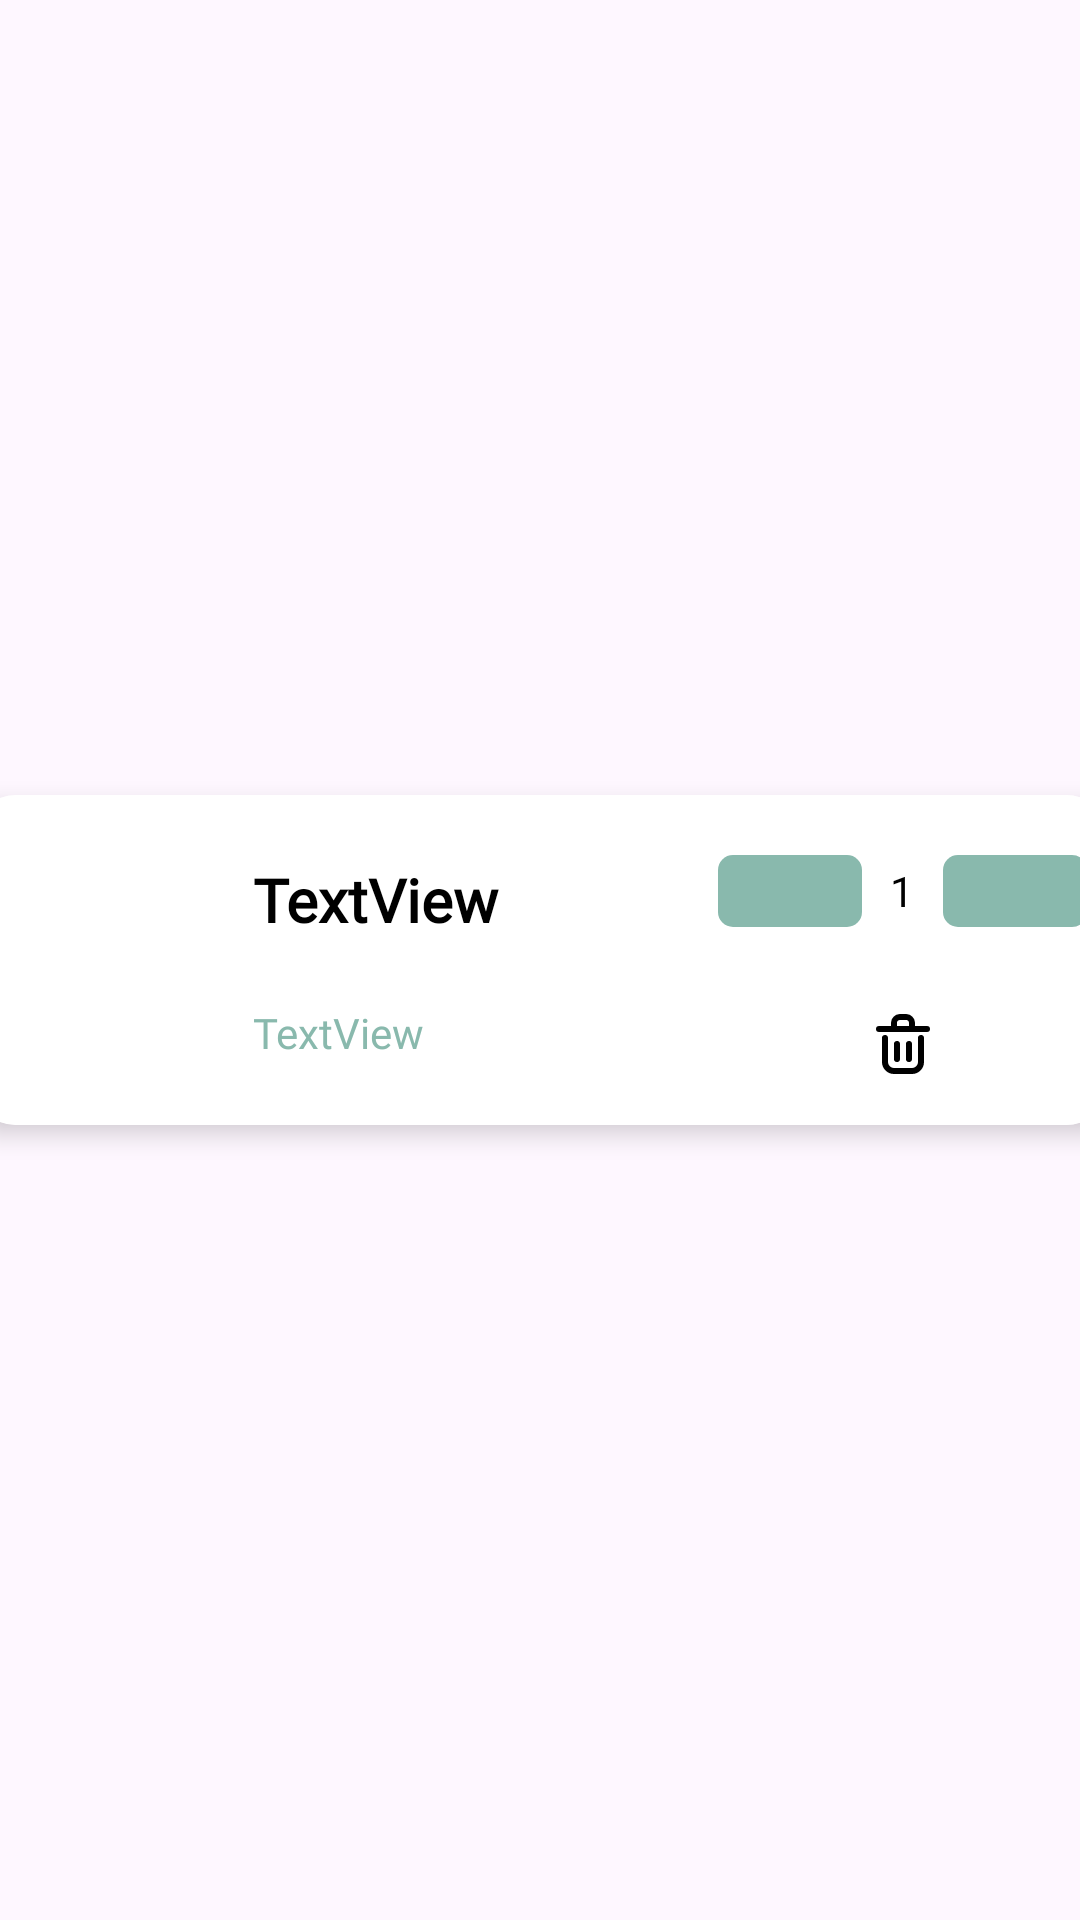

Screen size 1080×1920. Icon name, then its box in pixels as (x1, y1, x2, y2):
delete: (876, 1014, 930, 1074)
